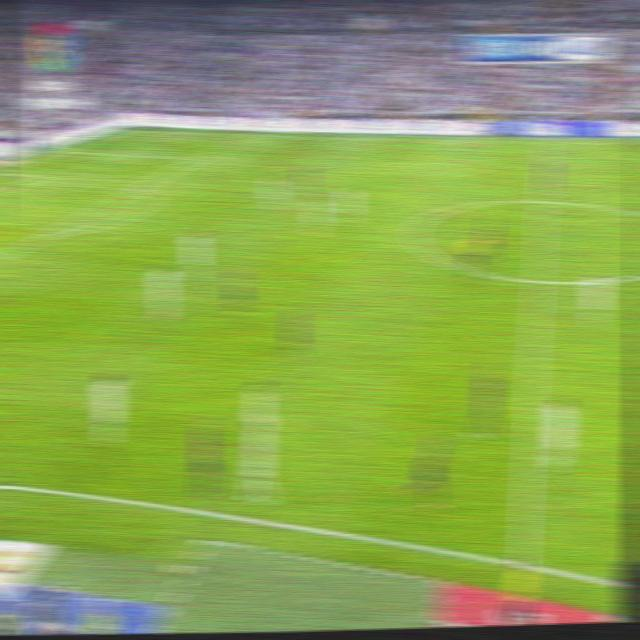halfcircle_bottom: (527, 270, 547, 291)
halfcircle_top: (532, 190, 552, 211)
midline_top_intersection: (538, 136, 554, 148)
top_arc_area_intersection: (132, 179, 150, 193)
